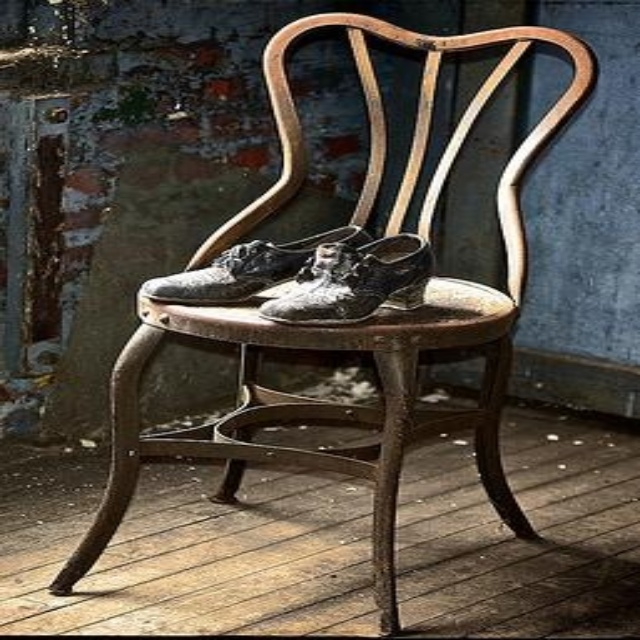obstacle: (50, 12, 593, 634)
